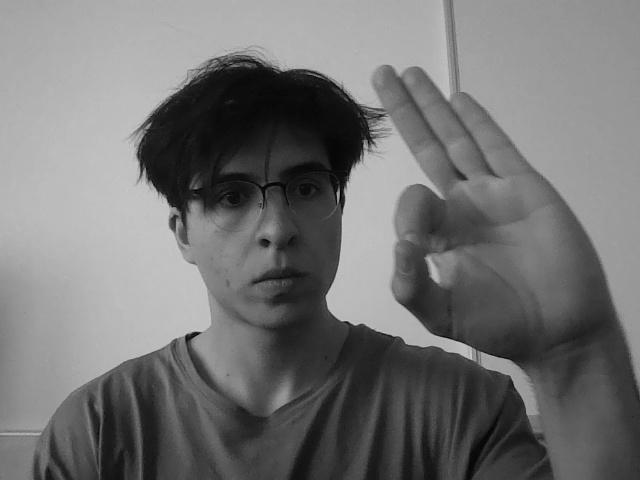OK: (350, 61, 612, 371)
